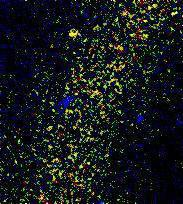star: (61, 17, 91, 47)
